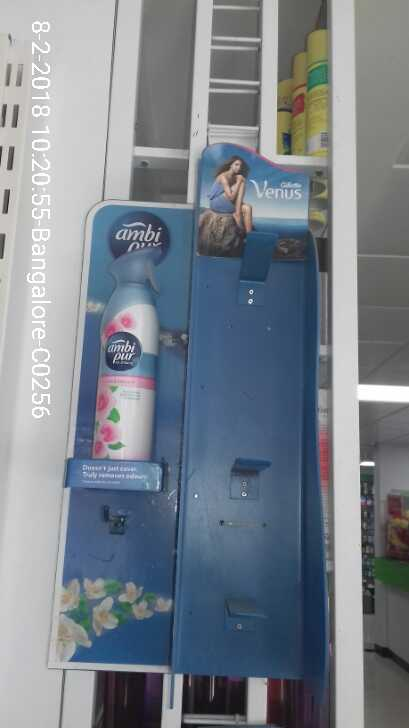ambipure: (88, 240, 165, 464)
